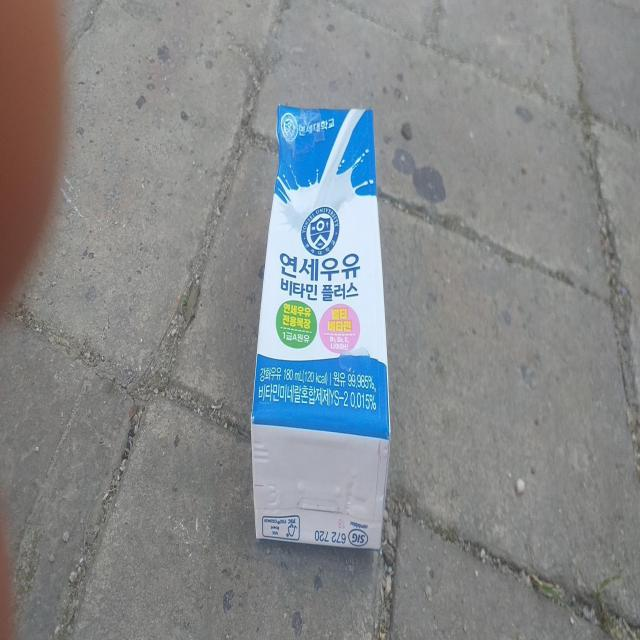paperpack: (251, 105, 390, 550)
